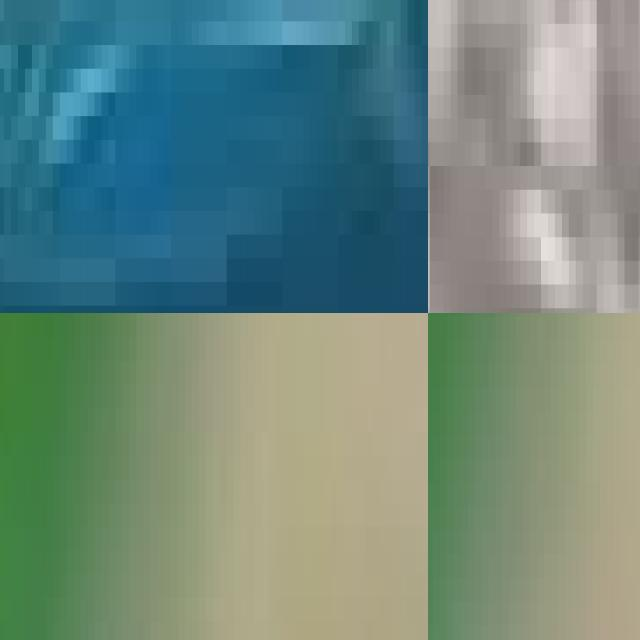fish: (0, 0, 428, 313)
